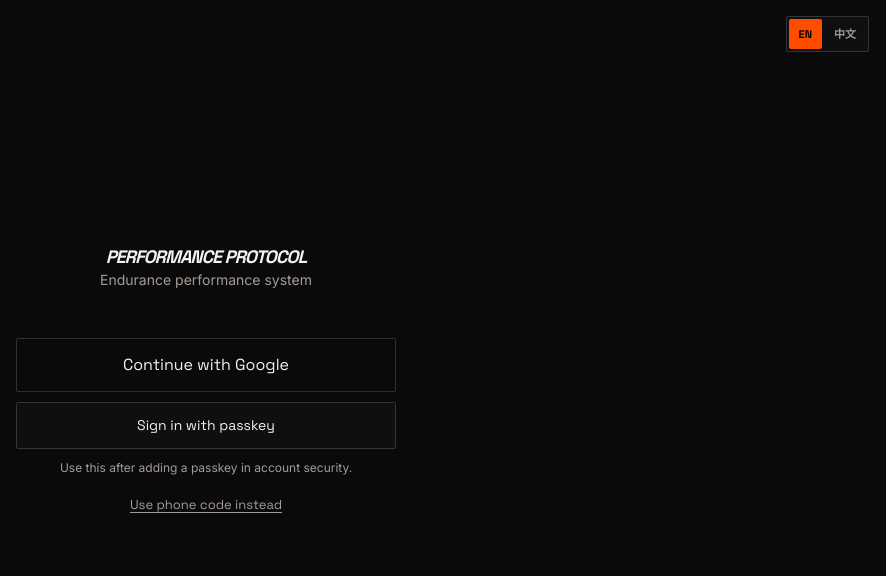
Test: LoginPage › shows error when send-otp fails
Click the button "Use phone code instead": {"x": 206, "y": 505} [130,495,282,515]
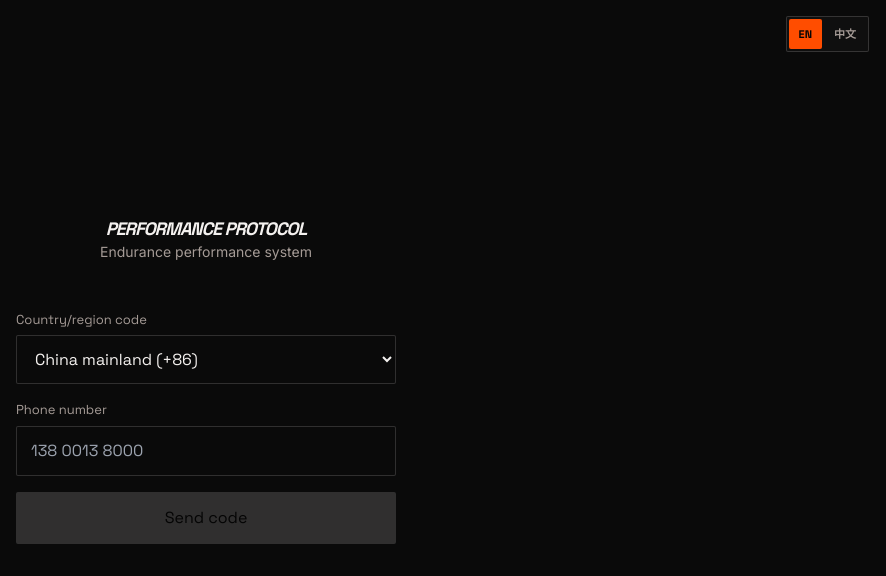
In the field with placeholder "138 0013 8000": {"x": 206, "y": 450} [16,426,396,476], type "13800138999"
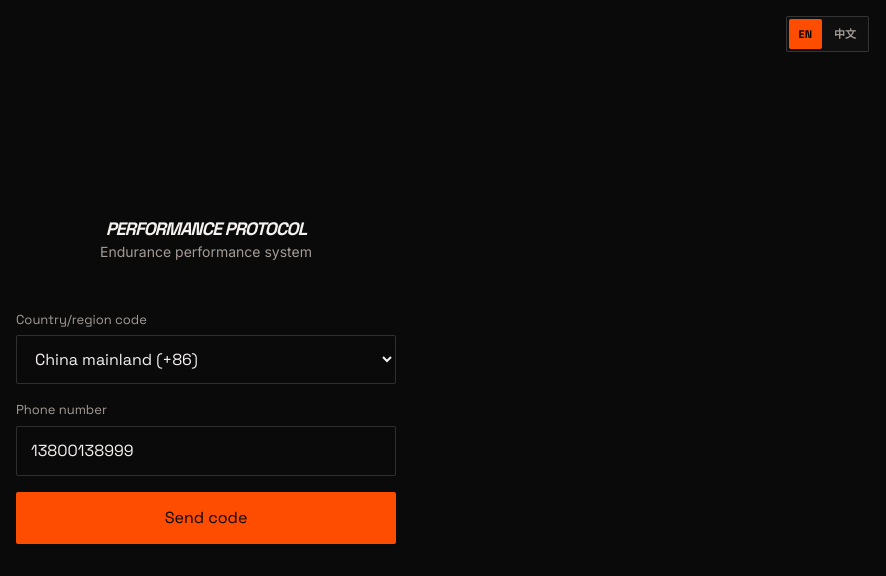
Click the button "Send code": {"x": 206, "y": 518} [16,492,396,544]
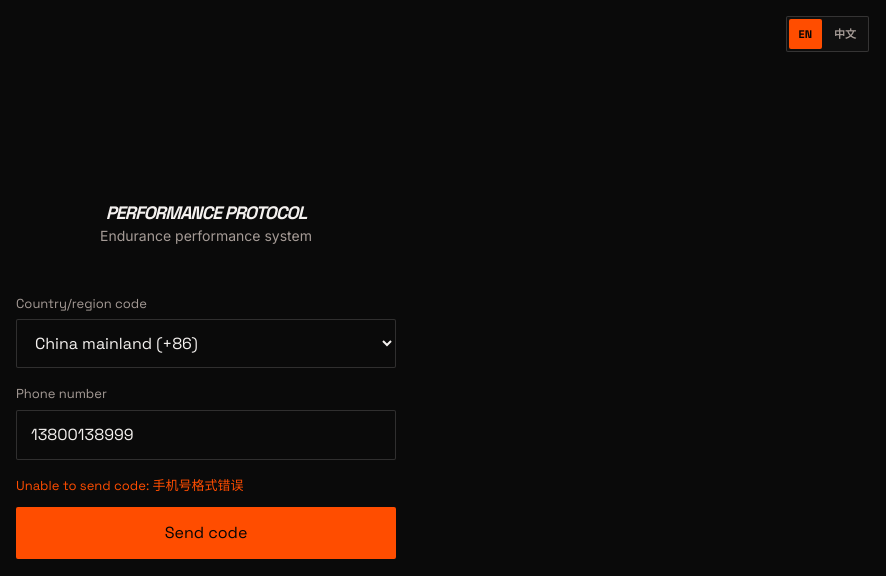
Result: the text "Unable to send code: 手机号格式错误" is shown at [16,477,244,494]
